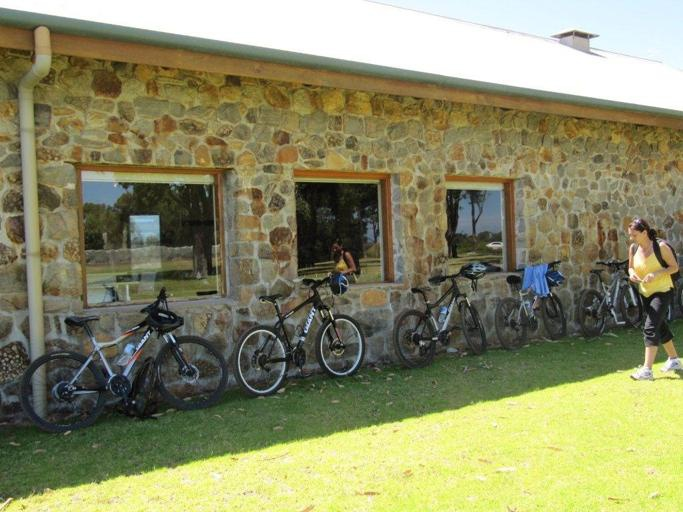non-vehicle: (16, 286, 230, 435), (232, 272, 366, 397), (391, 266, 488, 370), (493, 258, 568, 351), (574, 258, 642, 338), (666, 269, 682, 324), (102, 282, 118, 300)
